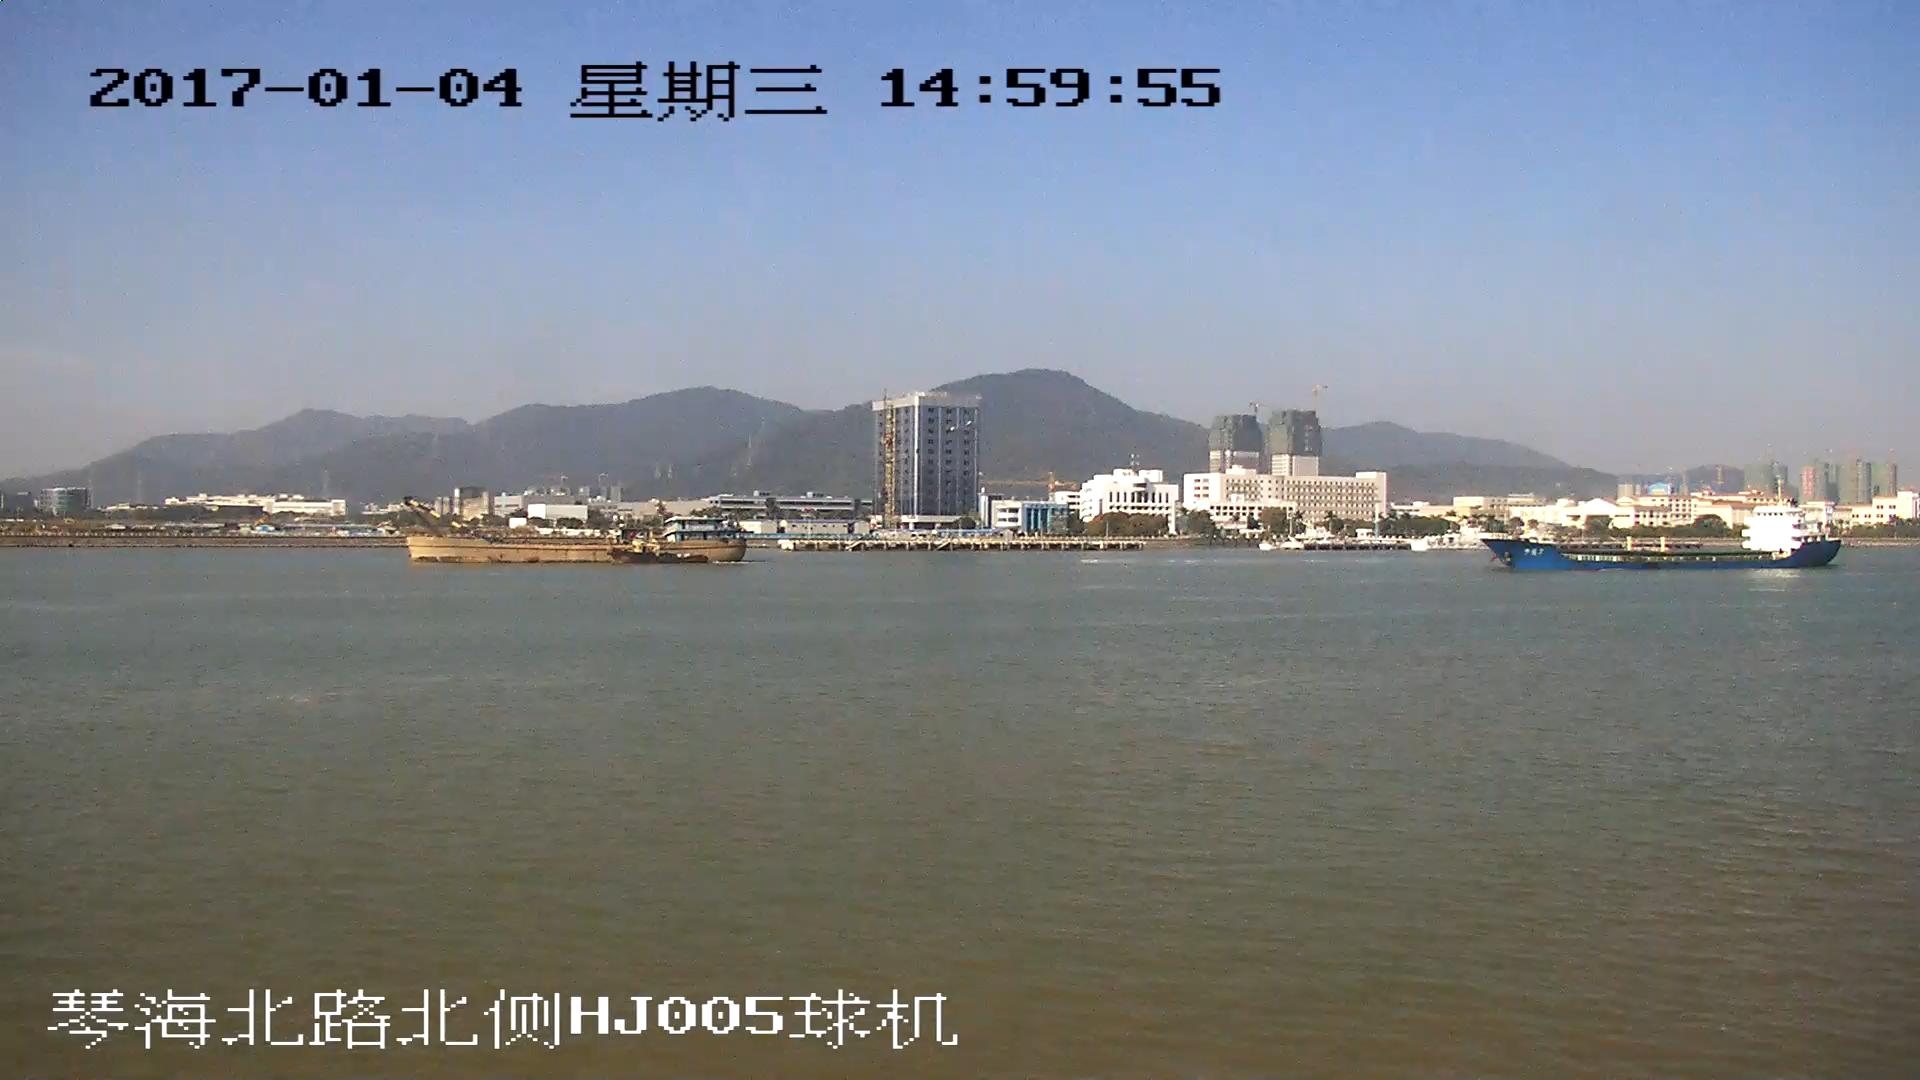bulk cargo carrier: (404, 501, 744, 567)
general cargo ship: (1494, 503, 1838, 569)
